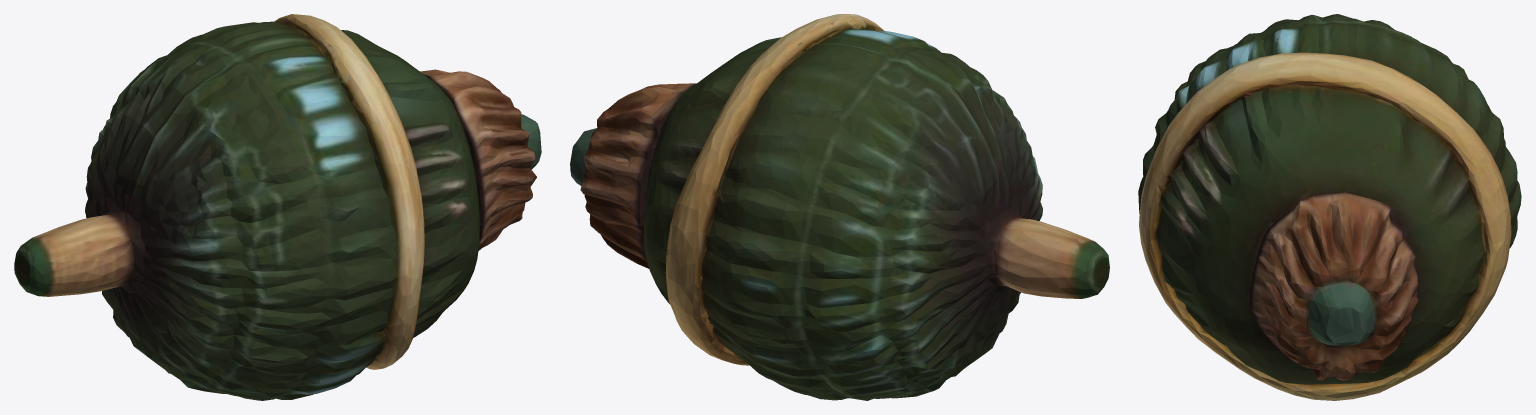
The model's file is frag_grenade.glb.
3 views of the same model, side by side, from view 1: azimuth 30°, elevation 25°; view 2: azimuth 150°, elevation 25°; view 3: azimuth 270°, elevation 25° (orthographic). The views are drawn at different scales.
Visible parts, largest first — view 1: tmpvvk40ng4.ply; view 2: tmpvvk40ng4.ply; view 3: tmpvvk40ng4.ply.
Boxes of the visible parts, left/top/right/bottom form: tmpvvk40ng4.ply: left=14, top=14, right=541, bottom=400; tmpvvk40ng4.ply: left=570, top=14, right=1109, bottom=400; tmpvvk40ng4.ply: left=1138, top=14, right=1521, bottom=400.
Bounding box in the file's own units: 0.5 × 0.3144 × 0.327.
1 material, 1 textured.
